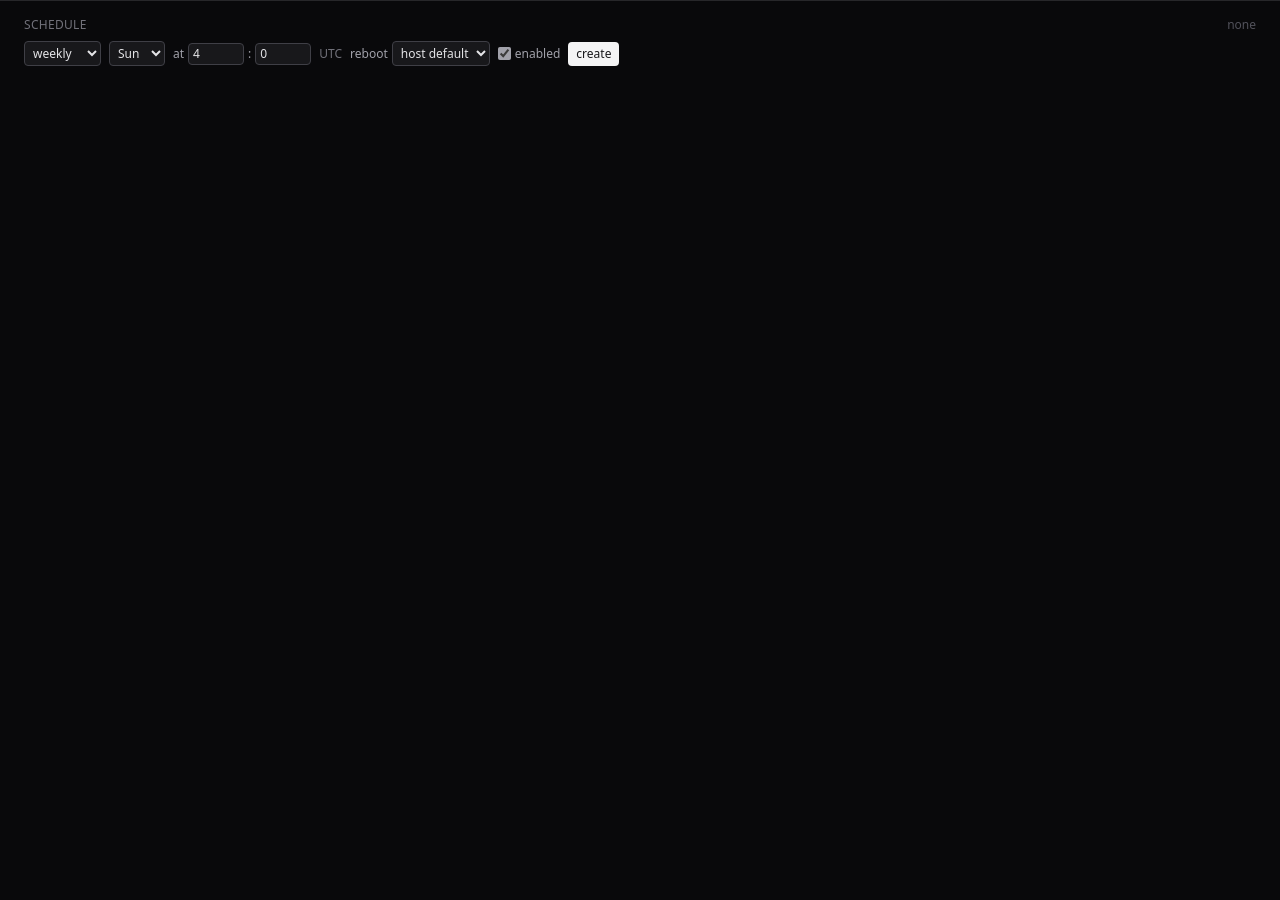
Schedule › creates a schedule from the default form when none exists
Expected: the text "none" is shown, [1227,17,1256,33]
What coordinates should you click on to do the following:
click the button "create"
I would click on:
 (594, 54)
Its box is [568,42,620,66].
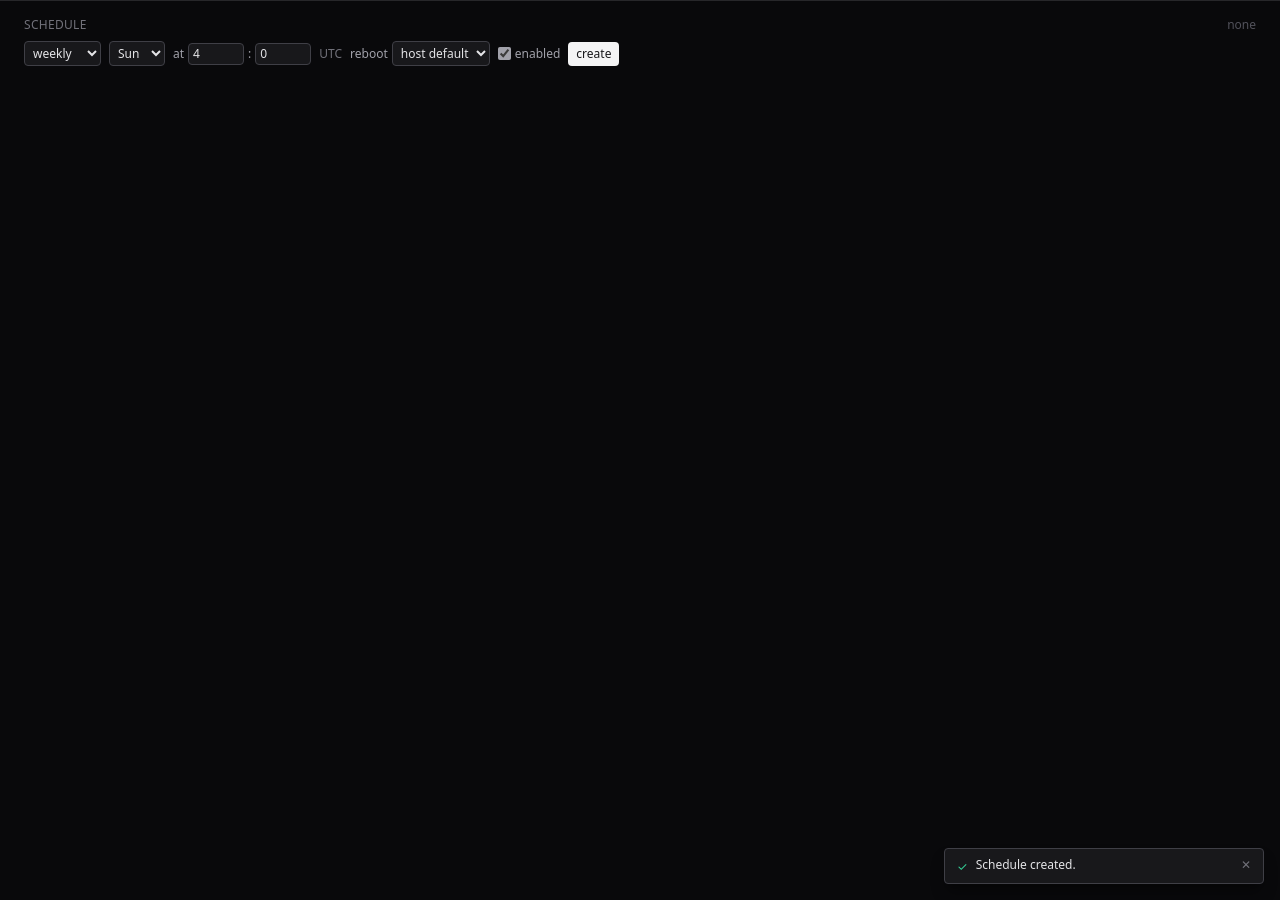
Result: the text "Schedule created." is shown at [976,856,1076,873]
